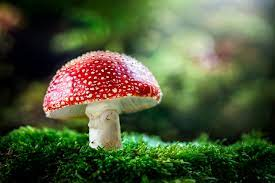Amanita muscaria: (34, 42, 166, 151)
